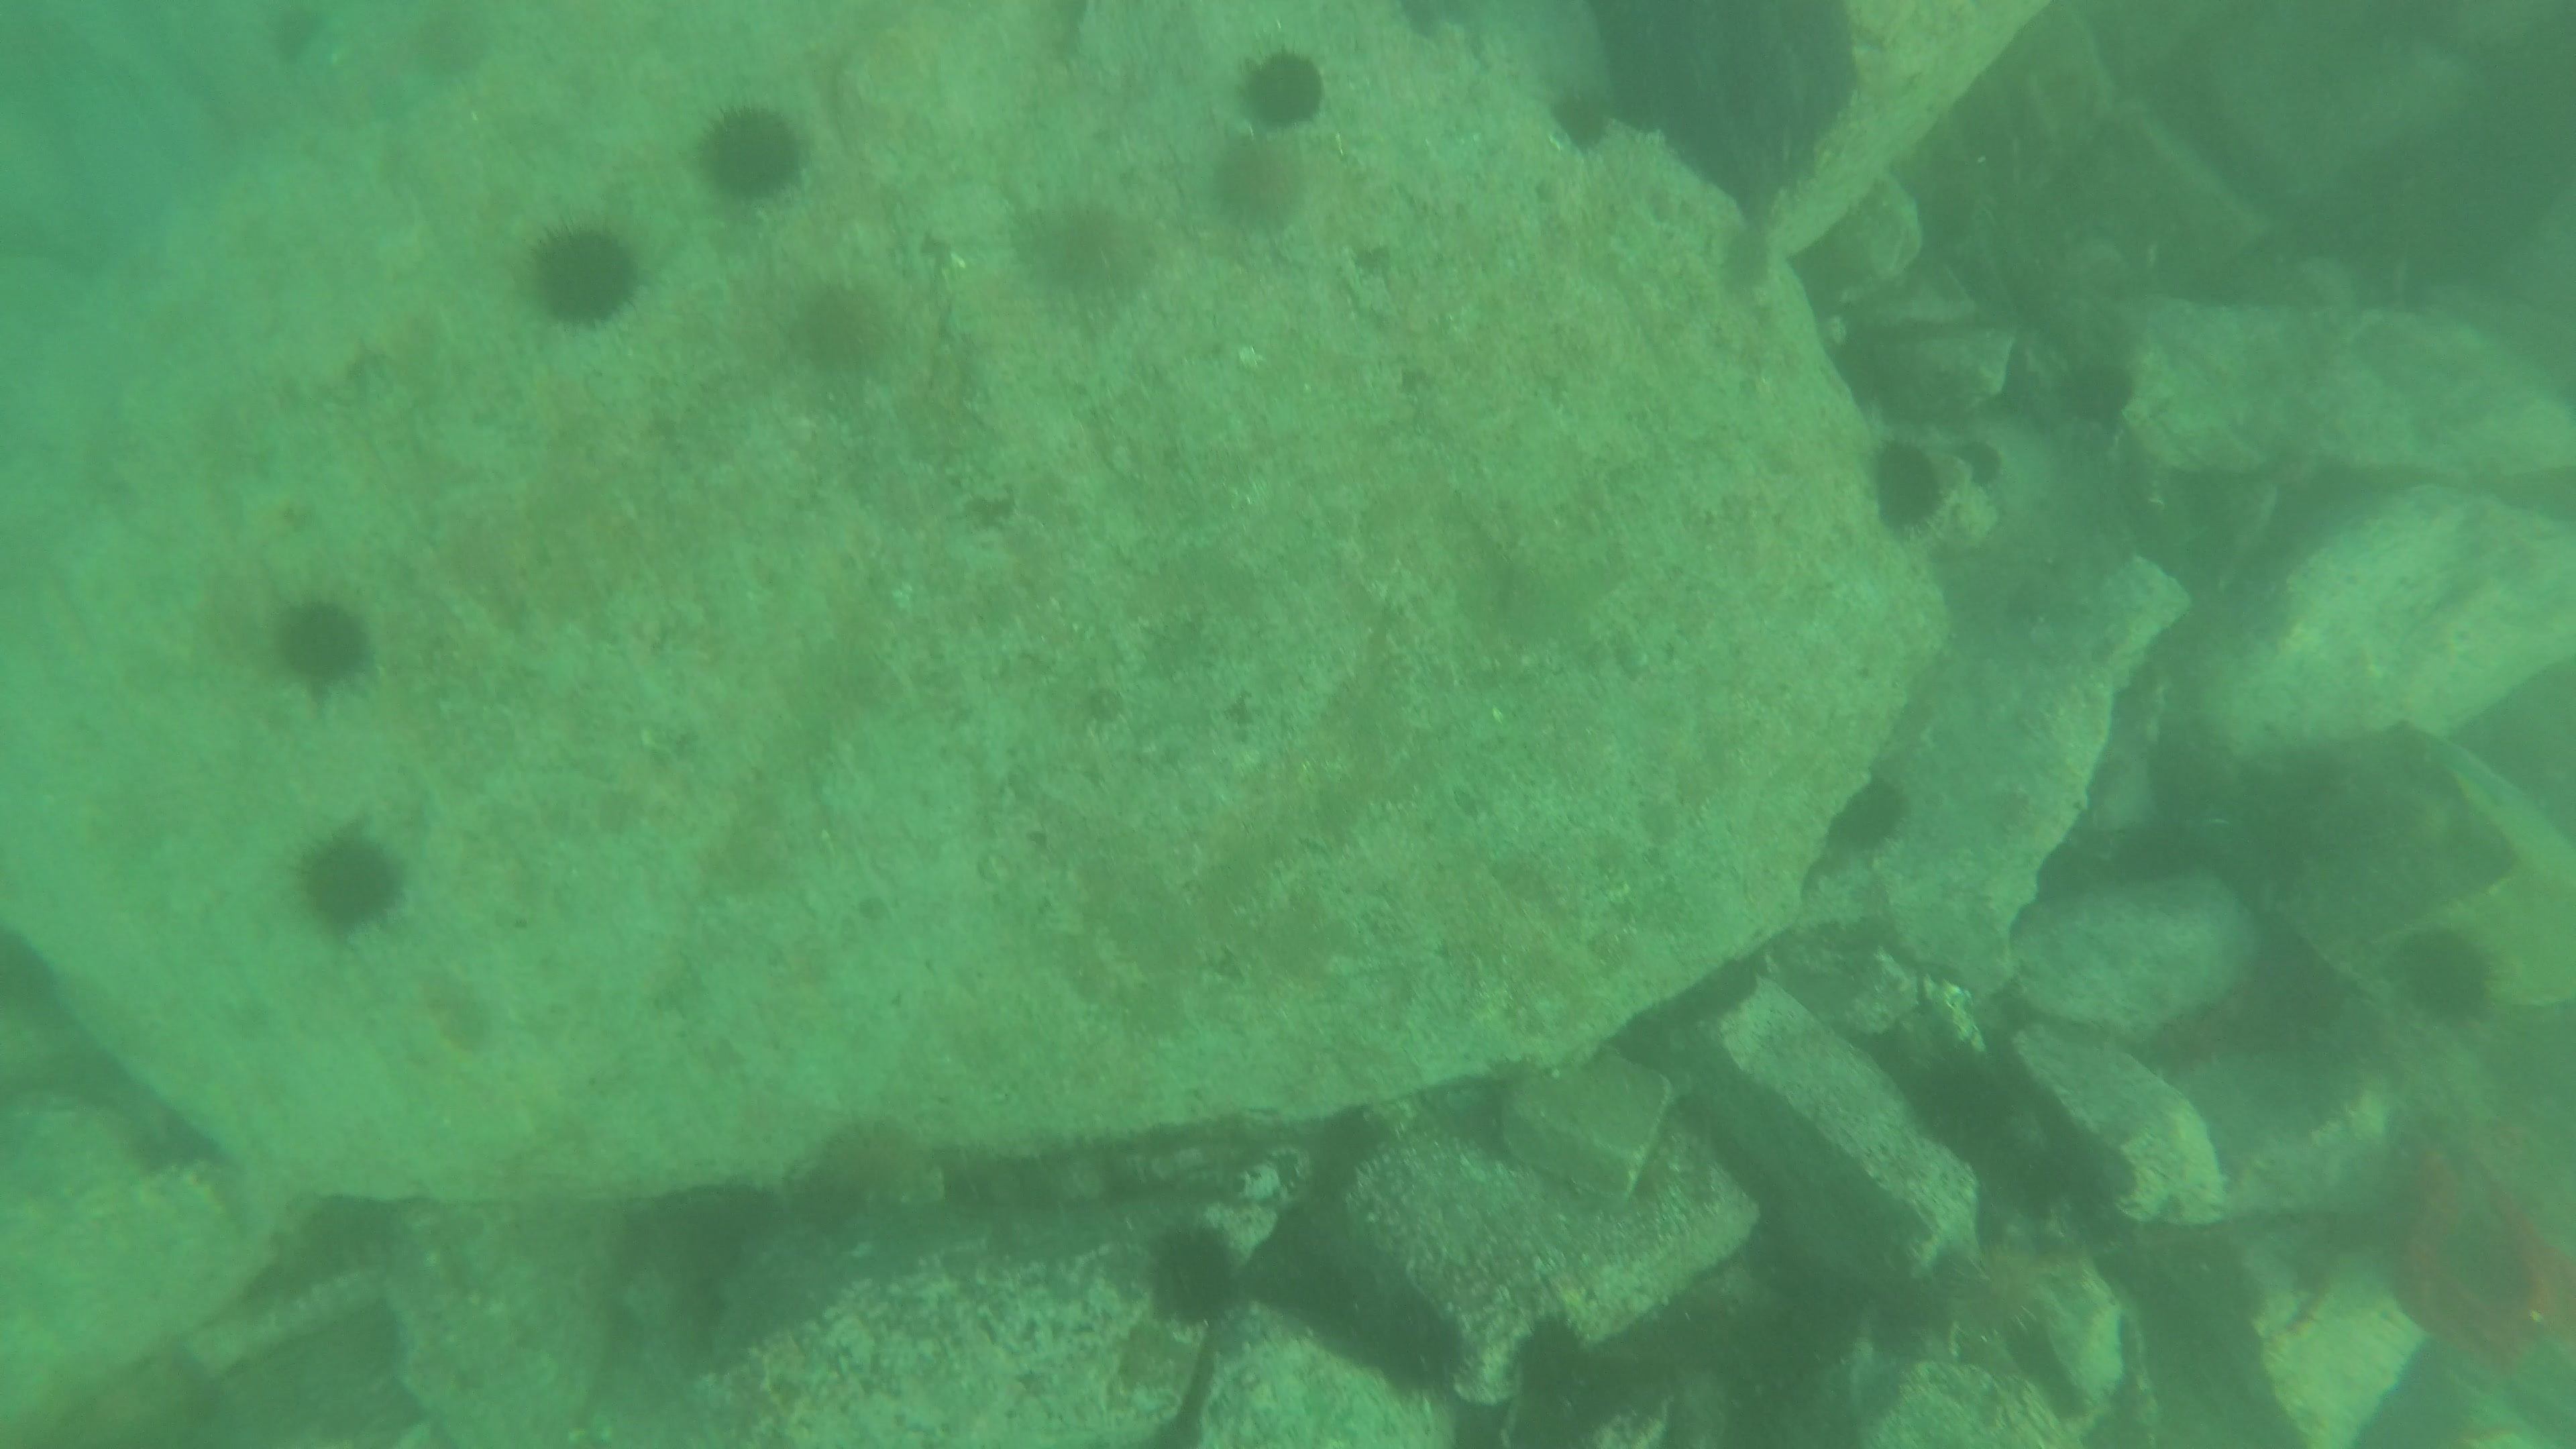echinus: (1007, 189, 1157, 311), (1497, 1309, 1629, 1444), (1939, 1230, 2074, 1362), (798, 1115, 947, 1230), (518, 214, 648, 333), (288, 821, 412, 939), (690, 97, 814, 209), (786, 272, 906, 384), (1361, 1284, 1476, 1399), (1136, 1215, 1247, 1332), (2385, 920, 2503, 1030), (264, 589, 380, 697), (1205, 133, 1311, 239), (1859, 433, 1955, 538), (1231, 42, 1334, 136), (1822, 768, 1918, 862), (2052, 349, 2143, 435), (1543, 78, 1624, 157), (1951, 432, 2010, 494)
